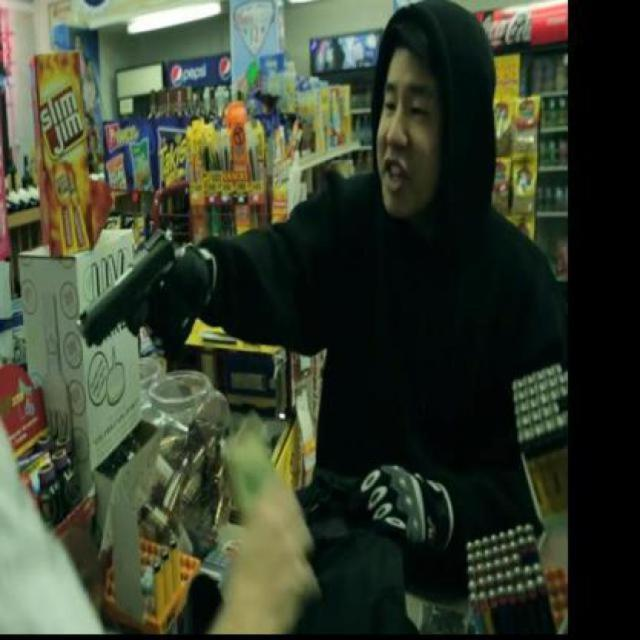pistol: (75, 224, 198, 350)
